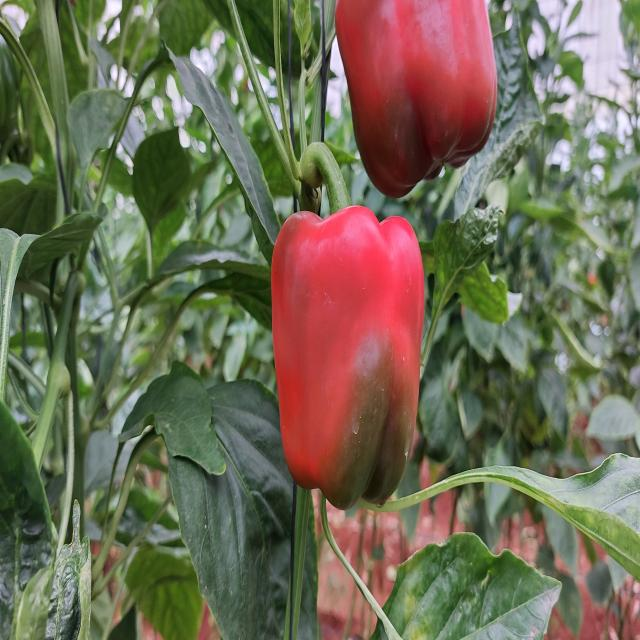Red-Ready-to-Harvest: (266, 194, 428, 519), (339, 0, 498, 187)
